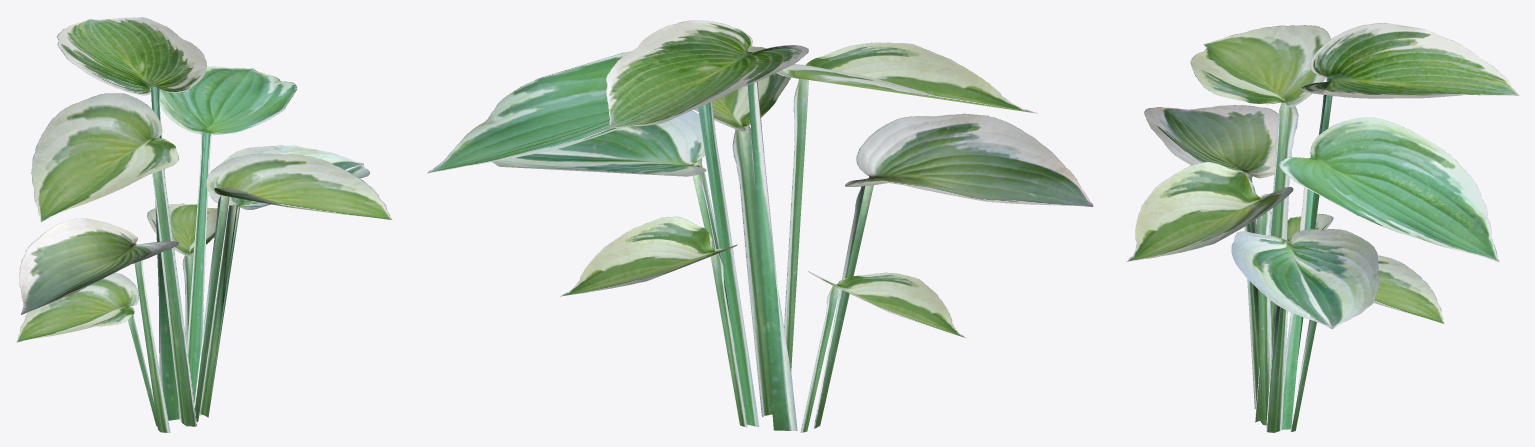
Rendered from plant_small_wg_00E.fbx.
3 renders of one model, left to right at view 1: azimuth 30°, elevation 25°; view 2: azimuth 150°, elevation 25°; view 3: azimuth 270°, elevation 25°, orthographic. The views are drawn at different scales.
Visible parts, largest first — view 1: plant_small_wg_00E; view 2: plant_small_wg_00E; view 3: plant_small_wg_00E.
Boxes of the visible parts, x1,y1,x2,y2 form: plant_small_wg_00E: (16,17,392,432); plant_small_wg_00E: (427,20,1093,432); plant_small_wg_00E: (1126,23,1519,432).
Bounding box in the file's own units: 62.48 × 48.74 × 47.88.
1 material, 1 textured.
